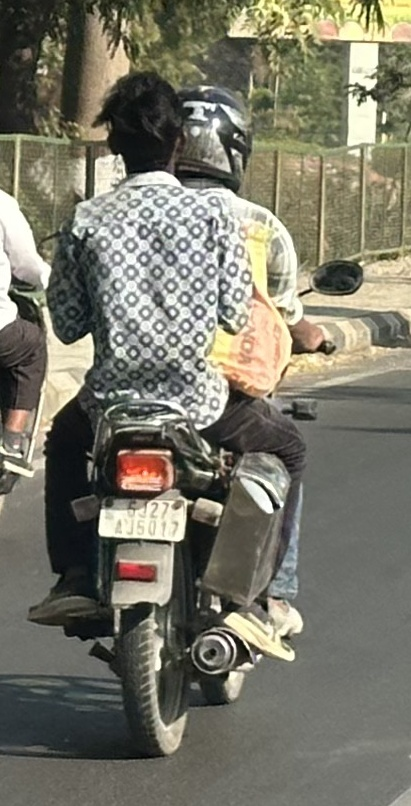BikeWithRider: (18, 58, 370, 767)
Helmet: (159, 78, 262, 199)
NoHelmet: (83, 61, 195, 189)
